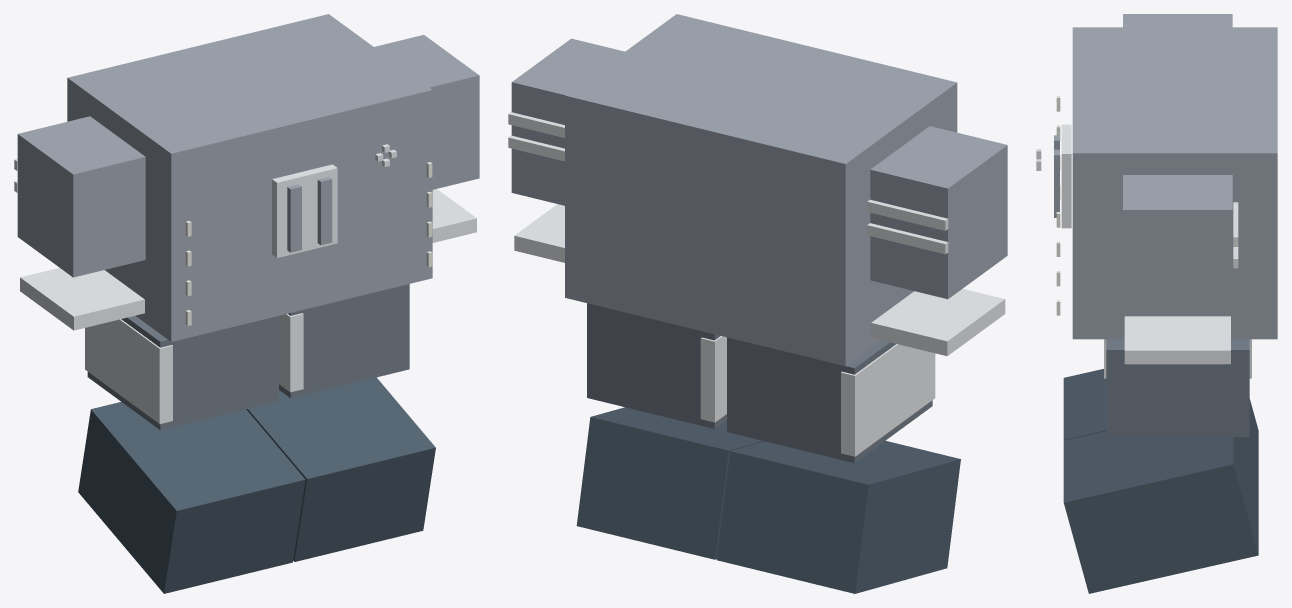
File: sport-slate.glb
The picture shows the model from 3 angles, left to right: view 1: azimuth 30°, elevation 25°; view 2: azimuth 150°, elevation 25°; view 3: azimuth 270°, elevation 25°; orthographic projection. The views are drawn at different scales.
Visible parts, largest first — view 1: jacket, shoe-Right, shoe-Left, upper-sleeve-Right, trouser-Right, trouser-Left, upper-sleeve-Left, shorts-stripe-Right, cuff-Right, jersey-number, shorts-stripe-Left, cuff-Left (+2 smaller); view 2: jacket, shoe-Right, shoe-Left, upper-sleeve-Right, trouser-Right, trouser-Left, upper-sleeve-Left, shorts-stripe-Right, cuff-Right, shorts-stripe-Left, cuff-Left, design-sport-shoulder-stripe-Right-0 (+3 smaller); view 3: jacket, shoe-Left, upper-sleeve-Left, trouser-Left, cuff-Left, shoe-Right, upper-sleeve-Right, jersey-number, design-sport-number-eleven-0.025.
Part boxes in pixels (x1,y1,x2,y2): jacket: [67, 14, 432, 341]; shoe-Right: [78, 402, 305, 593]; shoe-Left: [246, 377, 435, 561]; upper-sleeve-Right: [17, 116, 145, 277]; trouser-Right: [87, 316, 278, 429]; trouser-Left: [279, 284, 409, 398]; upper-sleeve-Left: [374, 35, 479, 189]; shorts-stripe-Right: [85, 319, 172, 423]; cuff-Right: [20, 267, 144, 330]; jersey-number: [272, 164, 337, 257]; shorts-stripe-Left: [279, 313, 303, 392]; cuff-Left: [432, 189, 476, 242]; jacket: [565, 14, 957, 366]; shoe-Right: [717, 440, 960, 593]; shoe-Left: [576, 407, 764, 559]; upper-sleeve-Right: [870, 126, 1007, 299]; trouser-Right: [727, 337, 932, 462]; trouser-Left: [587, 303, 726, 428]; upper-sleeve-Left: [511, 38, 624, 205]; shorts-stripe-Right: [841, 344, 935, 456]; cuff-Right: [871, 288, 1005, 356]; shorts-stripe-Left: [700, 336, 726, 422]; cuff-Left: [514, 204, 564, 262]; design-sport-shoulder-stripe-Right-0: [867, 199, 948, 230]; jacket: [1072, 27, 1277, 339]; shoe-Left: [1063, 431, 1258, 593]; upper-sleeve-Left: [1123, 175, 1232, 311]; trouser-Left: [1106, 339, 1249, 437]; cuff-Left: [1124, 316, 1230, 364]; shoe-Right: [1063, 369, 1258, 492]; upper-sleeve-Right: [1123, 14, 1232, 27]; jersey-number: [1061, 124, 1071, 228]; design-sport-number-eleven-0.025: [1054, 149, 1059, 217].
Bounding box in the file's own units: 1.07 × 1.13 × 0.559.
